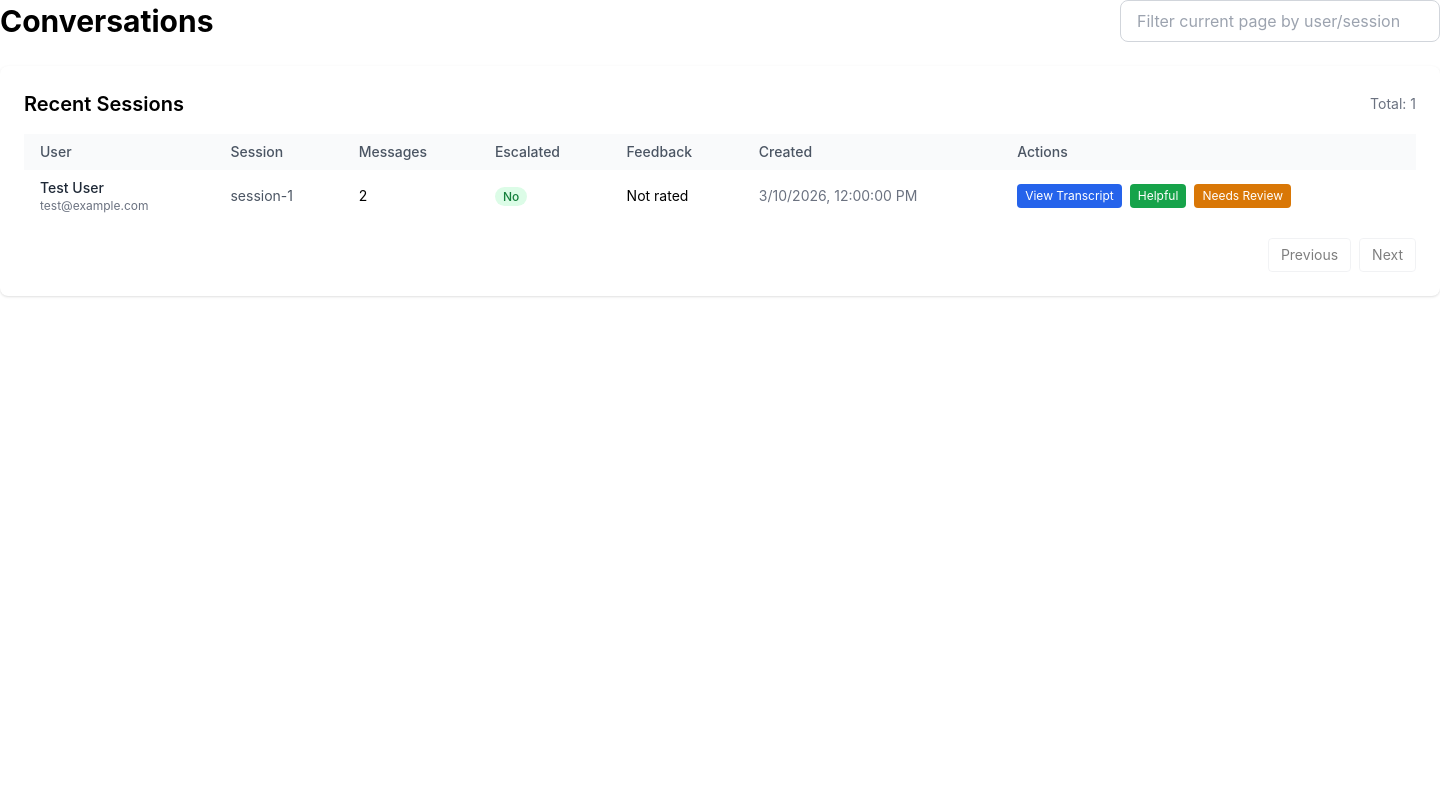
Scenario: ConversationsPage › loads conversations and opens the transcript drawer
Click the button "View Transcript" at [1070, 196], box [1017, 184, 1122, 208]
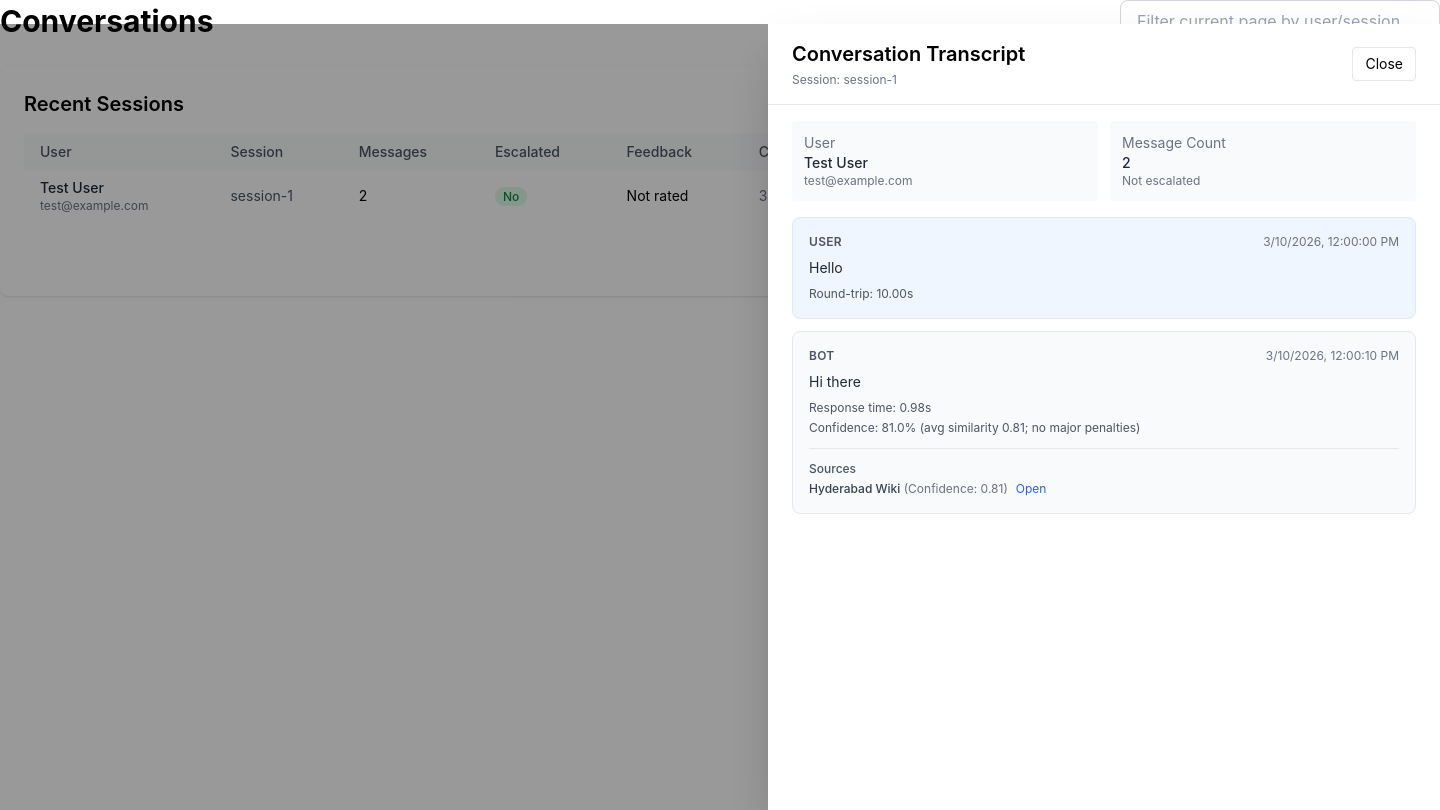
Now the heading "Conversation Transcript" is shown, box [792, 40, 1025, 68]
Now the text "Hello" is shown, box [809, 259, 843, 276]
Now the text "Hi there" is shown, box [809, 373, 861, 390]
